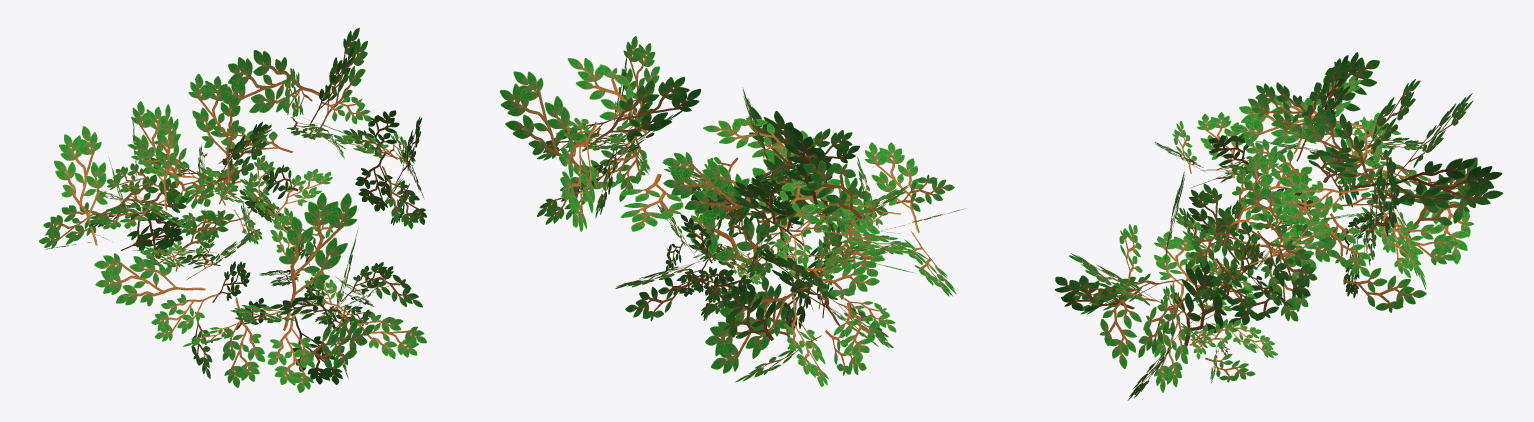
The model's file is Att_Folhas_ArvoreVerde_02.fbx.
3 renders of one model, left to right at view 1: azimuth 30°, elevation 25°; view 2: azimuth 150°, elevation 25°; view 3: azimuth 270°, elevation 25°, orthographic. The views are drawn at different scales.
Parts seen in each view (by area): view 1: FolhasArvore.02; view 2: FolhasArvore.02; view 3: FolhasArvore.02.
Boxes of the visible parts, left/top/right/bottom form: FolhasArvore.02: left=39, top=27, right=426, bottom=392; FolhasArvore.02: left=499, top=36, right=964, bottom=386; FolhasArvore.02: left=1054, top=52, right=1503, bottom=400.
Bounding box in the file's own units: 480 × 391 × 516.
